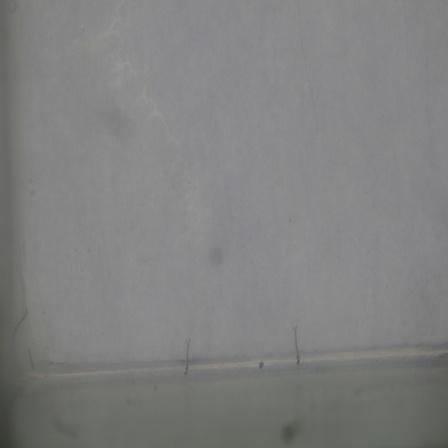Jentik-Nyamuk: (289, 319, 307, 367), (176, 333, 195, 377)
